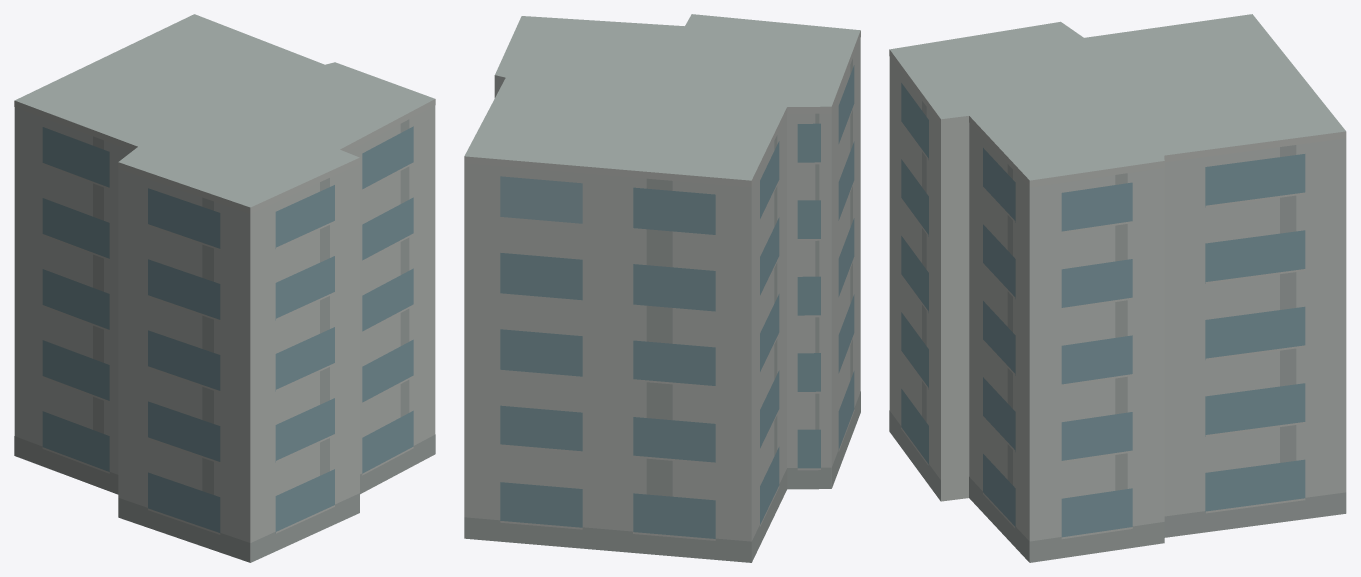
The model's file is survey-upis-32843245.glb.
The picture shows the model from 3 angles, left to right: view 1: azimuth 30°, elevation 25°; view 2: azimuth 150°, elevation 25°; view 3: azimuth 270°, elevation 25°; orthographic projection. The views are drawn at different scales.
Parts seen in each view (by area): view 1: survey-upis-32843245.tmp; view 2: survey-upis-32843245.tmp; view 3: survey-upis-32843245.tmp.
Part boxes in pixels (x1,y1,x2,y2): survey-upis-32843245.tmp: (14,14,435,562); survey-upis-32843245.tmp: (464,14,860,562); survey-upis-32843245.tmp: (889,14,1346,562).
Bounding box in the file's own units: 12.63 × 13.5 × 14.63.
